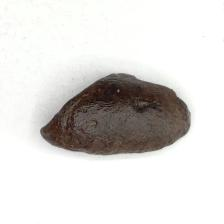NG: (39, 72, 121, 136)
